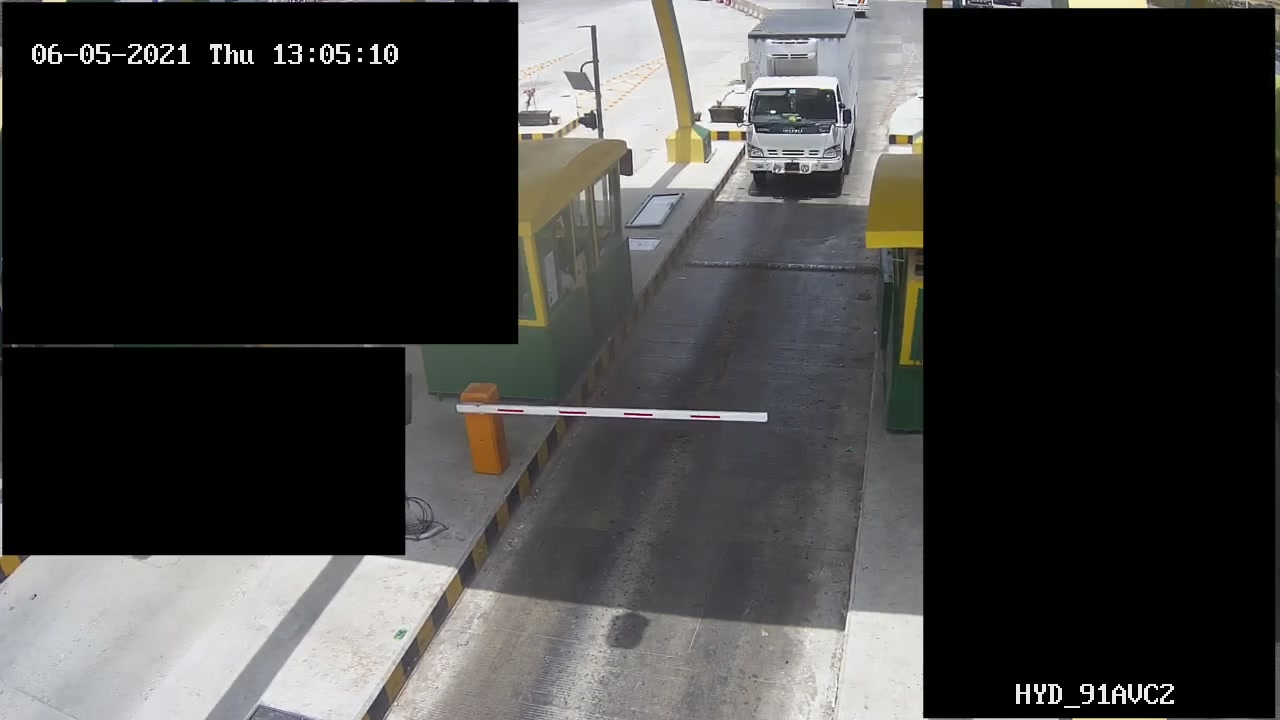F3: (739, 3, 870, 192)
